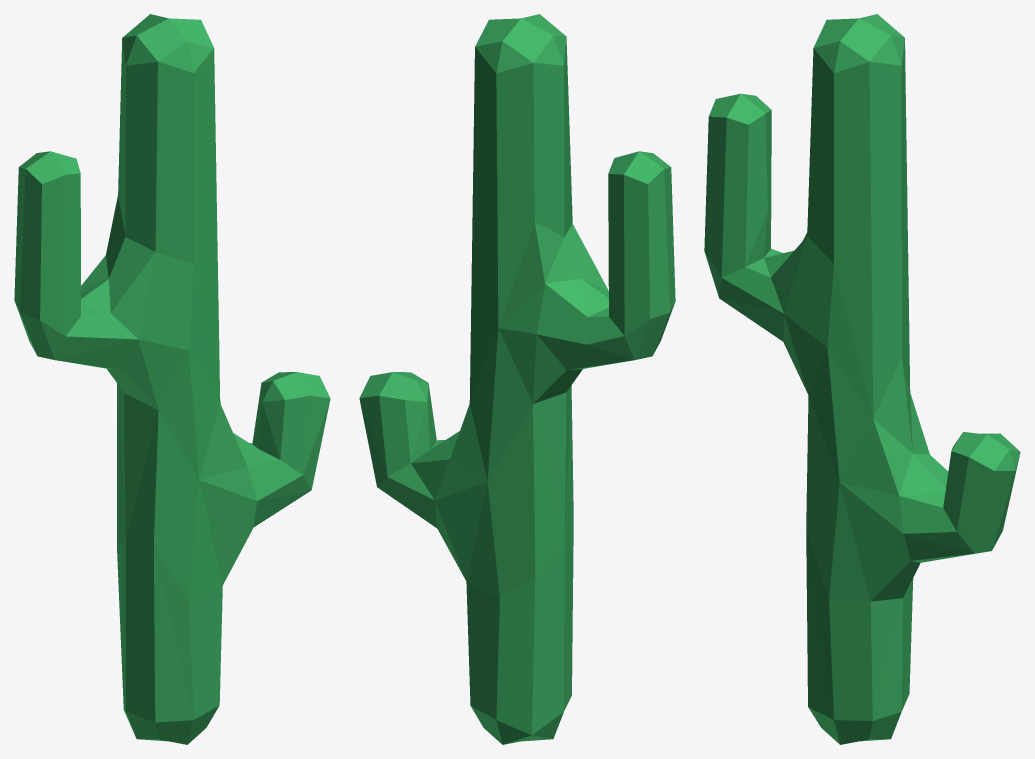
The model's file is cactus5.fbx.
3 views of the same model, side by side, from view 1: azimuth 30°, elevation 25°; view 2: azimuth 150°, elevation 25°; view 3: azimuth 330°, elevation 25° (orthographic).
Visible parts, largest first — view 1: cactus5; view 2: cactus5; view 3: cactus5.
Part boxes in pixels (x1=…): cactus5: x1=14, y1=14, x2=330, y2=744; cactus5: x1=359, y1=14, x2=675, y2=744; cactus5: x1=704, y1=14, x2=1020, y2=744.
Size of the model in its own units: 60.9 by 138 by 17.68.
